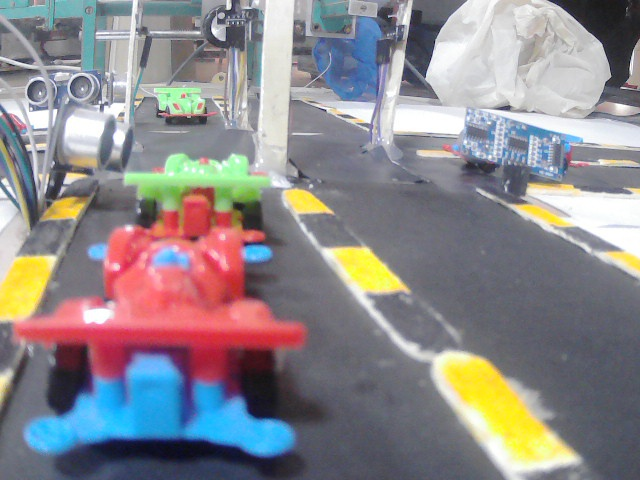car: (92, 222, 312, 474), (141, 161, 282, 232), (149, 82, 226, 127)
uno_breadboard: (464, 102, 600, 187), (64, 110, 139, 170), (21, 72, 97, 110), (111, 64, 138, 106)
